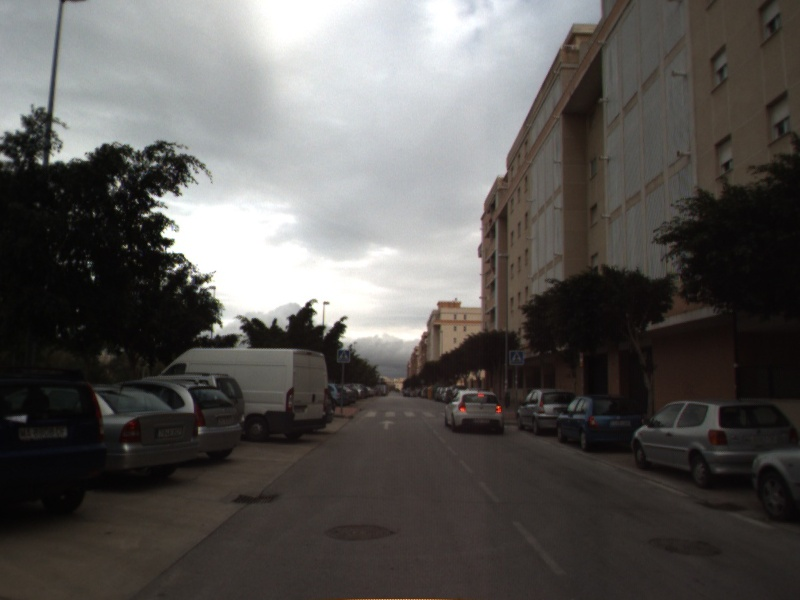STRAIGHT: (377, 418, 398, 431)
